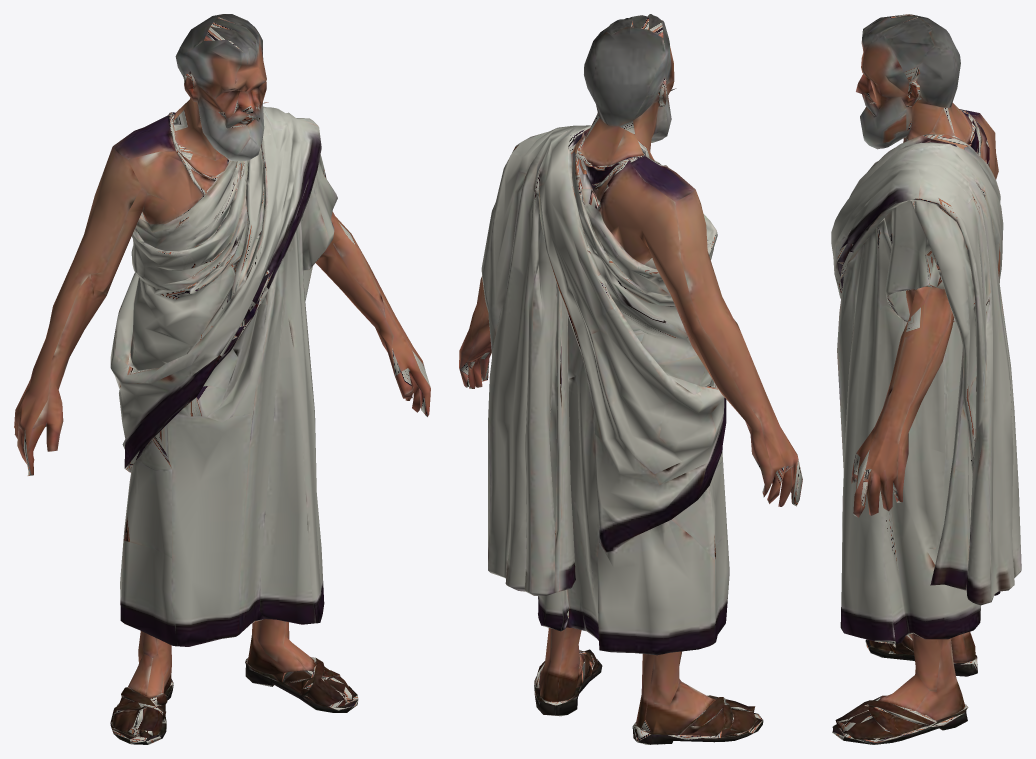
File: censor.glb
3 renders of one model, left to right at view 1: azimuth 30°, elevation 25°; view 2: azimuth 150°, elevation 25°; view 3: azimuth 270°, elevation 25°, orthographic.
Parts seen in each view (by area): view 1: censor; view 2: censor; view 3: censor.
Boxes of the visible parts, x1,y1,x2,y2 form: censor: (14,14,430,744); censor: (459,14,802,744); censor: (831,14,1021,744).
Bounding box in the file's own units: 1 × 1.8 × 0.4597.
1 material, 1 textured.
